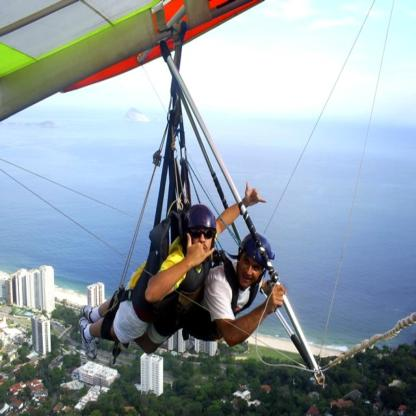Helmet: (238, 229, 283, 281), (176, 208, 216, 255)
